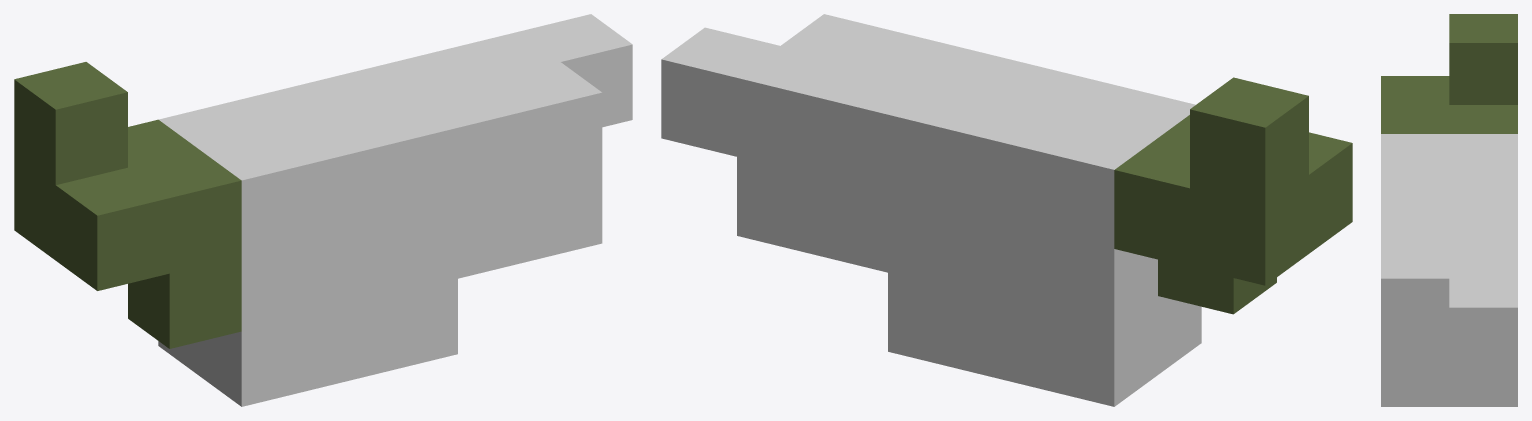
Rendered from serving_root.glb.
3 views of the same model, side by side, from view 1: azimuth 30°, elevation 25°; view 2: azimuth 150°, elevation 25°; view 3: azimuth 270°, elevation 25° (orthographic). The views are drawn at different scales.
Visible parts, largest first — view 1: Overlay; view 2: Overlay; view 3: Overlay.
Part boxes in pixels (bbox=[...]): Overlay: bbox=[14, 14, 632, 406]; Overlay: bbox=[661, 14, 1352, 406]; Overlay: bbox=[1381, 14, 1517, 406].
Bounding box in the file's own units: 0.5 × 0.25 × 0.125.
